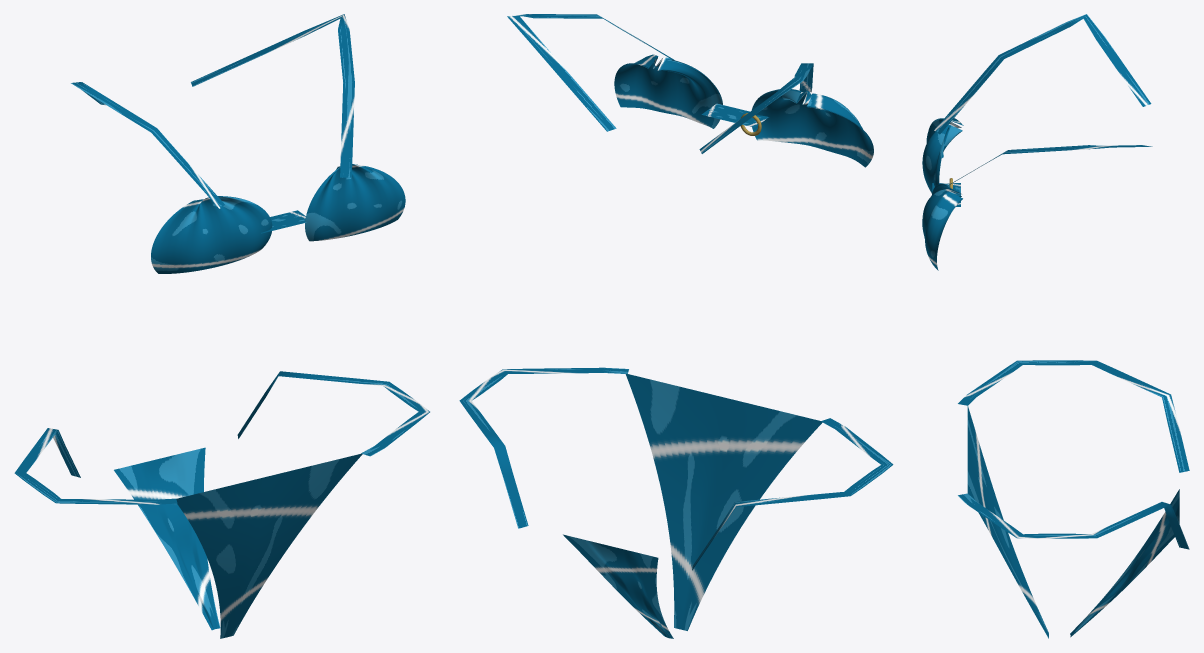
File: bikini_5c34f021.obj
3 renders of one model, left to right at view 1: azimuth 30°, elevation 25°; view 2: azimuth 150°, elevation 25°; view 3: azimuth 270°, elevation 25°, orthographic. The views are drawn at different scales.
Parts seen in each view (by area): view 1: bottom_front_classic, bottom_back_brazilian, cup_left_scallop, cup_right_scallop, strap_right_shoulder, bottom_strap_left_tie, bottom_strap_right_tie, strap_left_shoulder; view 2: bottom_front_classic, cup_left_scallop, cup_right_scallop, bottom_back_brazilian, bottom_strap_right_tie, strap_right_shoulder, bottom_strap_left_tie, strap_left_shoulder, connector_band; view 3: bottom_front_classic, bottom_strap_left_tie, strap_left_shoulder, bottom_back_brazilian, bottom_strap_right_tie, cup_right_scallop, cup_left_scallop, strap_right_shoulder.
Part boxes in pixels (x1,y1,x2,y2): bottom_front_classic: (176,453,362,638); bottom_back_brazilian: (114,447,220,630); cup_left_scallop: (151,196,272,273); cup_right_scallop: (305,164,405,241); strap_right_shoulder: (191,14,354,177); bottom_strap_left_tie: (14,428,177,504); bottom_strap_right_tie: (237,371,429,456); strap_left_shoulder: (71,82,224,208); bottom_front_classic: (625,374,822,630); cup_left_scallop: (751,89,873,167); cup_right_scallop: (614,54,722,128); bottom_back_brazilian: (563,534,673,638); bottom_strap_right_tie: (459,367,628,528); strap_right_shoulder: (507,14,673,131); bottom_strap_left_tie: (692,418,893,570); strap_left_shoulder: (699,63,813,153); connector_band: (701,103,768,127); bottom_front_classic: (967,406,1048,638); bottom_strap_left_tie: (958,360,1189,472); strap_left_shoulder: (934,14,1151,134); bottom_back_brazilian: (1070,489,1179,637); bottom_strap_right_tie: (958,493,1189,549); cup_right_scallop: (922,183,962,270); cup_left_scallop: (922,118,963,193); strap_right_shoulder: (938,145,1152,191).
Bounding box in the file's own units: 0.4414 × 0.643 × 0.2798.
Materials: 2 (1 with a texture image).
